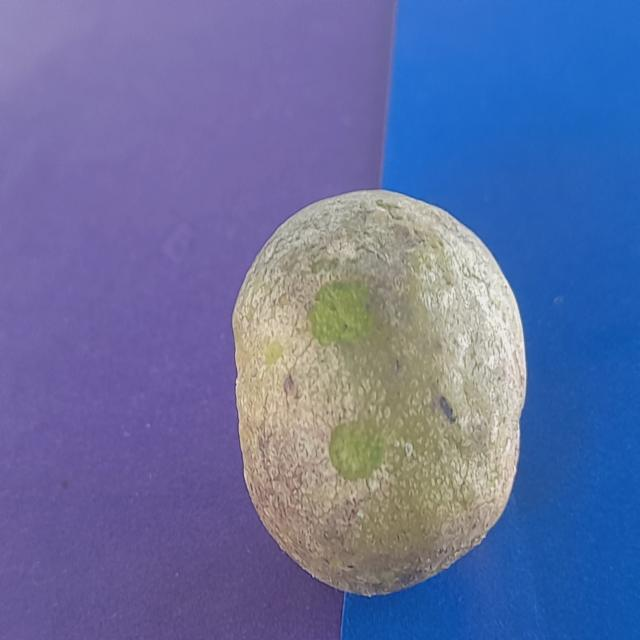thrips: (211, 153, 602, 604)
